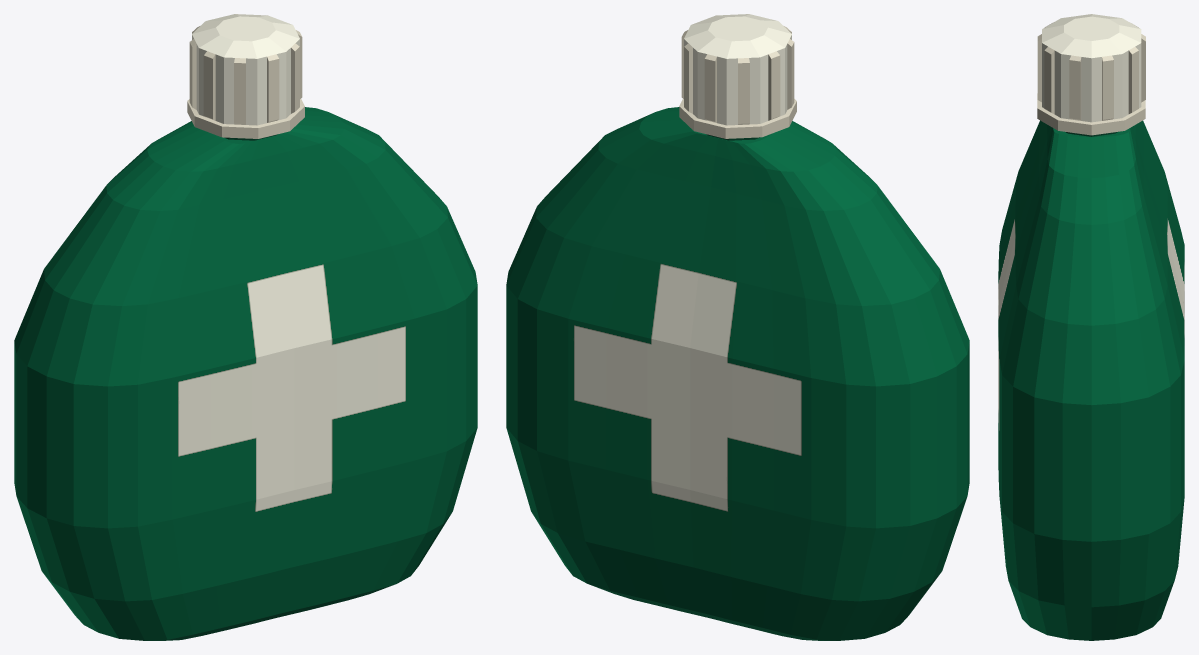
Rendered from WorldItem_MedicinalCanteen.fbx.
3 renders of one model, left to right at view 1: azimuth 30°, elevation 25°; view 2: azimuth 150°, elevation 25°; view 3: azimuth 270°, elevation 25°, orthographic. The views are drawn at different scales.
Parts seen in each view (by area): view 1: ZomboidMedicinalCanteen; view 2: ZomboidMedicinalCanteen; view 3: ZomboidMedicinalCanteen.
Boxes of the visible parts, <box> form: ZomboidMedicinalCanteen: <box>14,14,477,640</box>; ZomboidMedicinalCanteen: <box>506,14,969,640</box>; ZomboidMedicinalCanteen: <box>998,14,1184,640</box>.
Bounding box in the file's own units: 0.0823 × 0.1018 × 0.0315.
